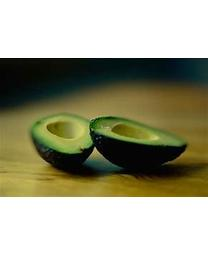avocado: (89, 115, 188, 171), (27, 111, 94, 172)
